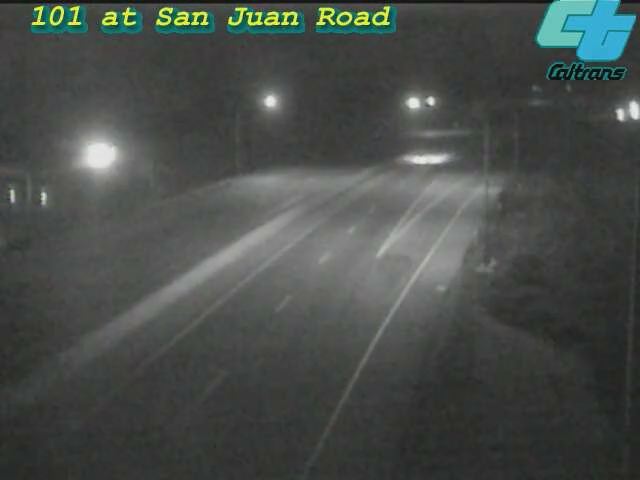vehicle: (403, 135, 453, 185), (594, 90, 640, 140), (609, 85, 640, 135)
